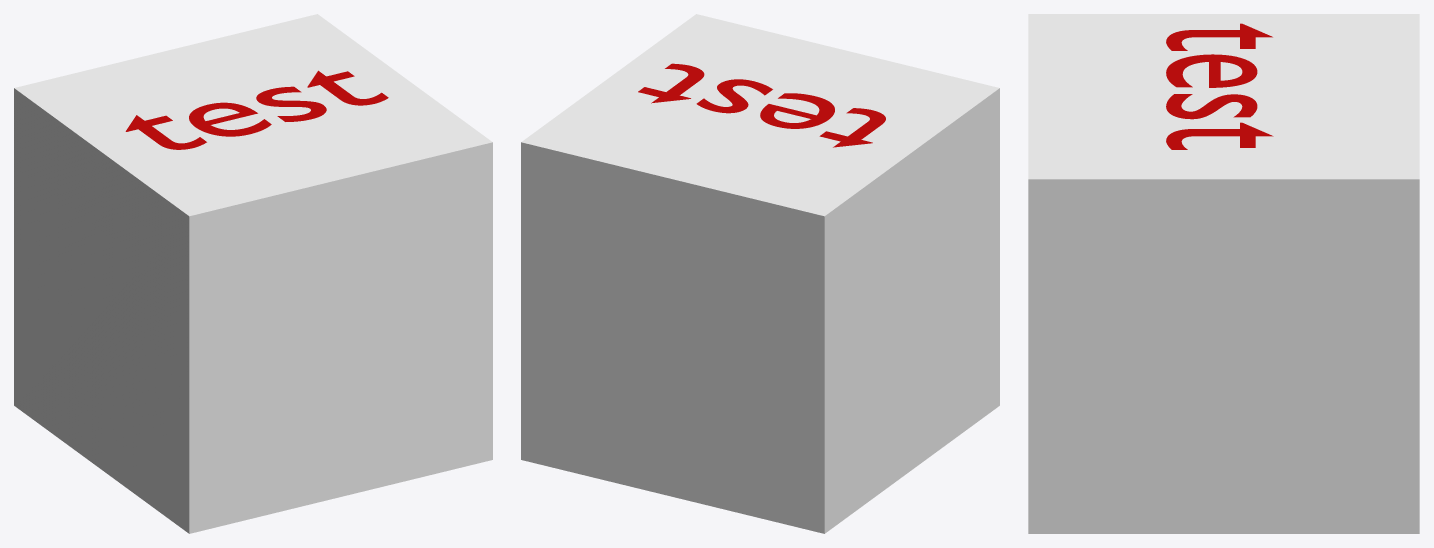
File: testRed2.glb
3 views of the same model, side by side, from view 1: azimuth 30°, elevation 25°; view 2: azimuth 150°, elevation 25°; view 3: azimuth 270°, elevation 25° (orthographic). The views are drawn at different scales.
Visible parts, largest first — view 1: mesh_id4, mesh_id5; view 2: mesh_id4, mesh_id5; view 3: mesh_id4, mesh_id5.
Part boxes in pixels (x1,y1,x2,y2): mesh_id4: (14, 14, 492, 533); mesh_id5: (125, 70, 388, 149); mesh_id4: (521, 14, 999, 533); mesh_id5: (638, 63, 885, 147); mesh_id4: (1028, 14, 1419, 533); mesh_id5: (1166, 23, 1273, 149).
Size of the model in its own units: 0.5009 by 0.512 by 0.5009.
Materials: 2 (2 with a texture image).
